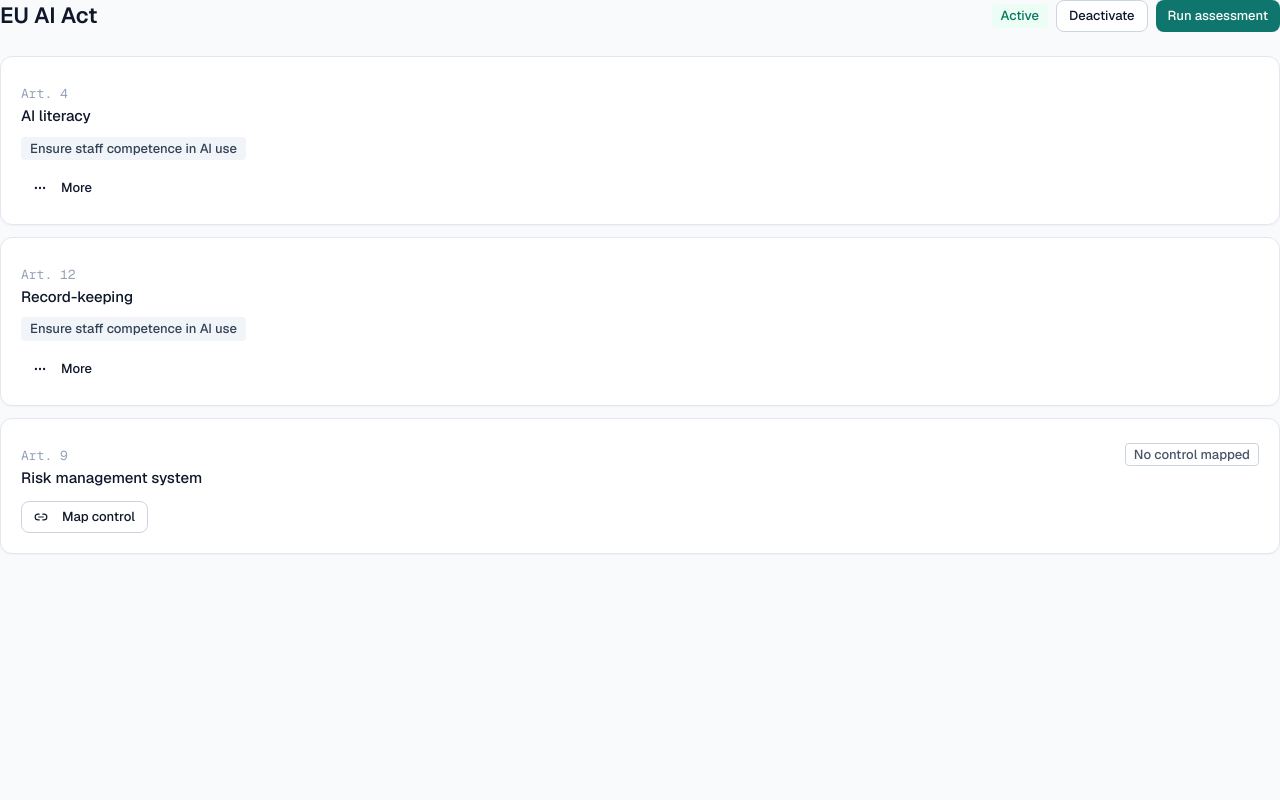
Test: framework requirement states › labels each state as itself, not as a neighbouring one
This screenshot has width=1280, height=800.
Expected: the text "AI literacy" is shown, 21,104 -> 91,128
Step 1. Click the button "Run assessment" → (1218, 16), box 1156,0 -> 1279,32
(page scrolled)
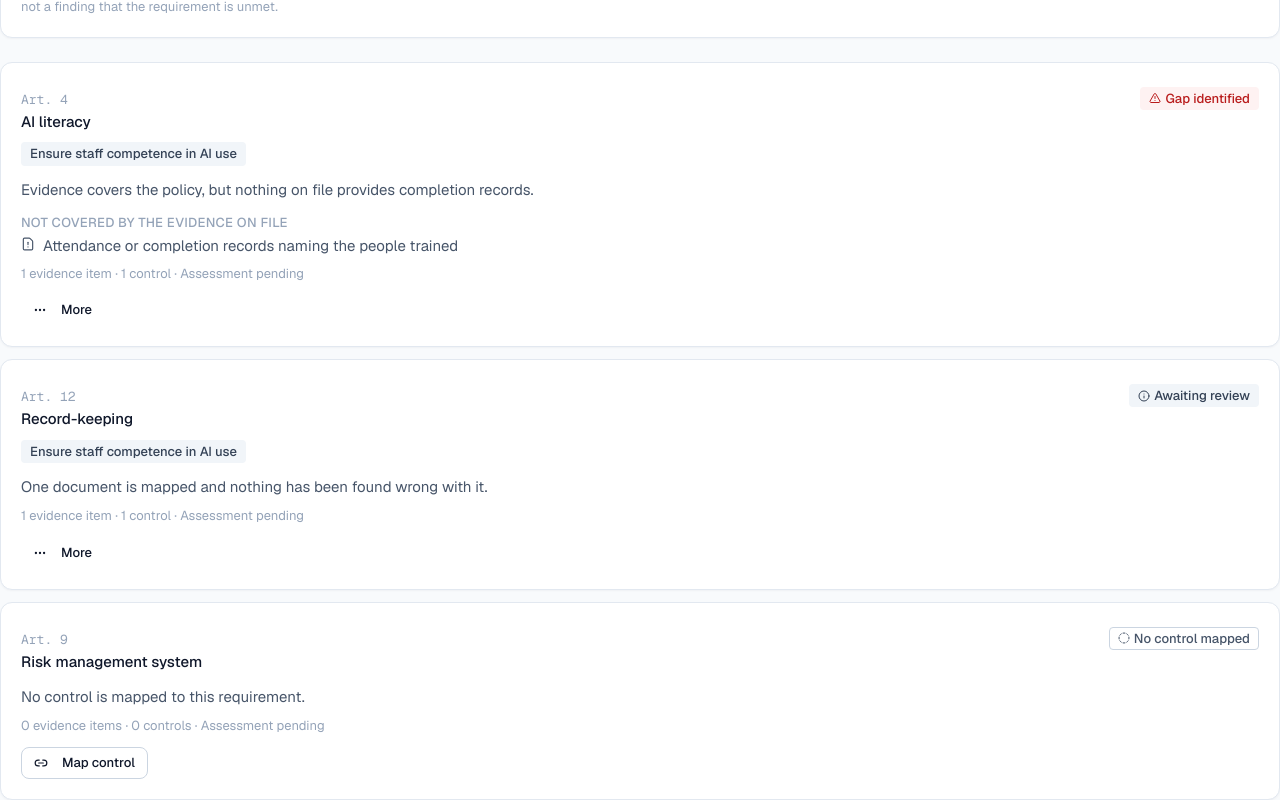
Expected: the text "No control mapped" is shown, 1109,627 -> 1259,650
Now the text "Gap identified" is shown, box 1140,87 -> 1259,110
Now the text "Awaiting review" is shown, box 1129,384 -> 1259,407
